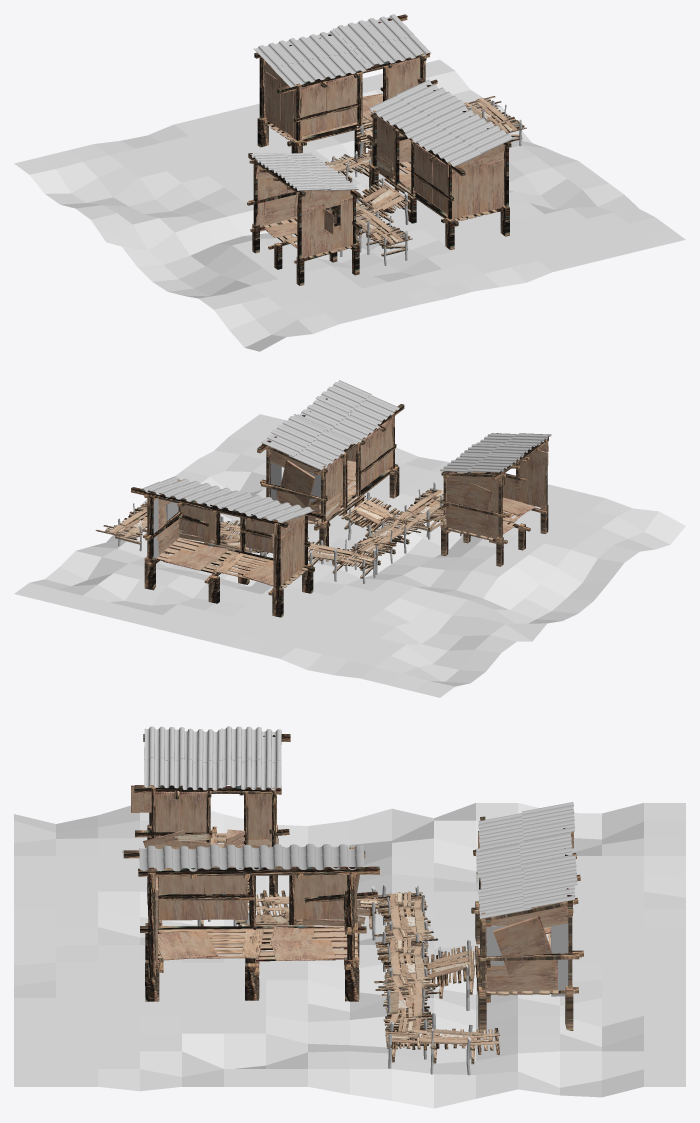
Rendered from favela.fbx.
3 renders of one model, top to bottom at view 1: azimuth 30°, elevation 25°; view 2: azimuth 150°, elevation 25°; view 3: azimuth 270°, elevation 25°, orthographic. The views are drawn at different scales.
Parts seen in each view (by area): view 1: Plane, Circle.017, Cube.254, Cube.214, Cube.181, Circle.012, Circle.015, Circle.013, Cube.255, Circle.008, Circle.011, Circle.009 (+9 smaller); view 2: Plane, Circle.017, Cube.177, Cube.178, Cube.096, Cube.181, Cube.124, Cube.255, Cube.239, Cube.254, Cube.277, Cube.222 (+9 smaller); view 3: Plane, Circle.017, Cube.181, Cube.179, Cube.178, Cube.180, Cube.251, Cube.253, Circle.012, Circle.013, Circle.008, Circle.015 (+20 smaller).
Boxes of the visible parts, <box> form: Plane: <box>14,59,685,351</box>; Circle.017: <box>358,78,514,249</box>; Cube.254: <box>326,75,357,129</box>; Cube.214: <box>300,80,330,136</box>; Cube.181: <box>464,96,526,146</box>; Circle.012: <box>253,38,313,68</box>; Circle.015: <box>355,14,414,45</box>; Circle.013: <box>296,29,353,60</box>; Cube.255: <box>388,57,420,98</box>; Circle.008: <box>271,58,330,87</box>; Circle.011: <box>374,34,430,63</box>; Circle.009: <box>315,50,371,78</box>; Plane: <box>14,414,685,697</box>; Circle.017: <box>257,380,404,552</box>; Cube.177: <box>350,519,427,574</box>; Cube.178: <box>308,538,378,583</box>; Cube.096: <box>518,460,545,507</box>; Cube.181: <box>95,502,147,551</box>; Cube.124: <box>446,505,488,537</box>; Cube.255: <box>179,498,215,540</box>; Cube.239: <box>131,487,288,527</box>; Cube.254: <box>246,519,272,553</box>; Cube.277: <box>163,549,217,570</box>; Cube.222: <box>285,521,300,578</box>; Plane: <box>14,803,685,1108</box>; Circle.017: <box>122,843,379,1001</box>; Cube.181: <box>385,1013,499,1075</box>; Cube.179: <box>374,932,438,998</box>; Cube.178: <box>374,885,437,951</box>; Cube.180: <box>378,982,441,1059</box>; Cube.251: <box>485,959,557,994</box>; Cube.253: <box>493,915,552,975</box>; Circle.012: <box>522,802,574,840</box>; Circle.013: <box>519,832,572,868</box>; Circle.008: <box>478,813,523,850</box>; Circle.015: <box>522,872,575,909</box>.
Bounding box in the file's own units: 2624 × 709 × 2624.
